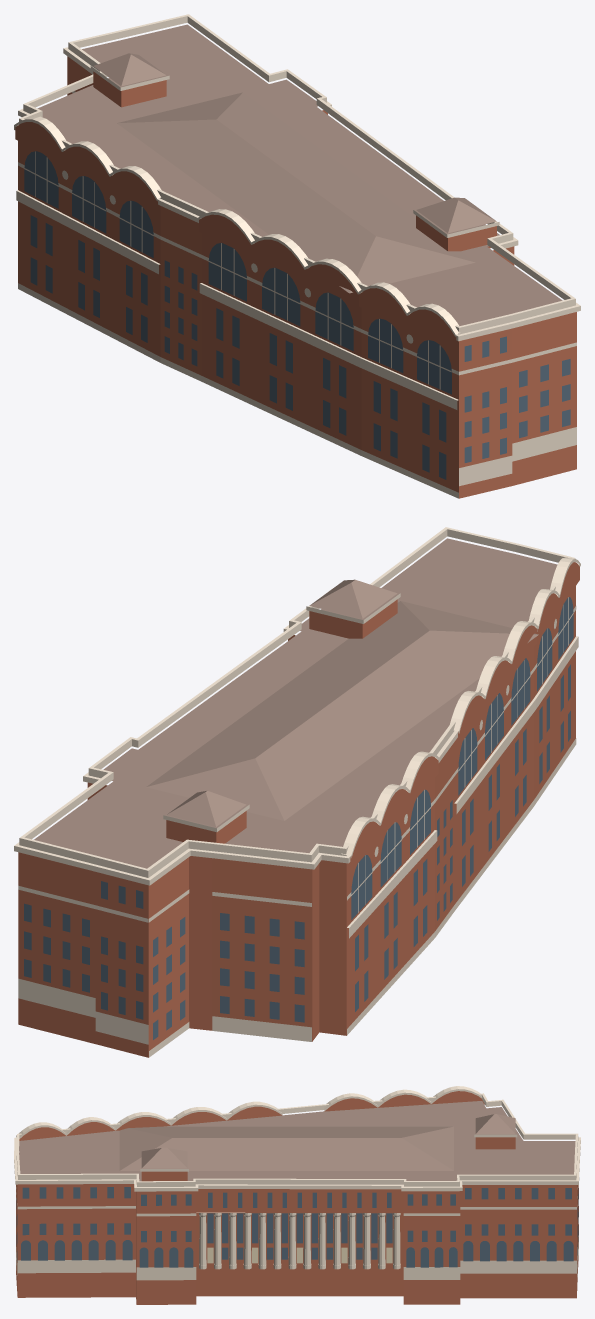
The model's file is van-waterfront-station.glb.
3 renders of one model, top to bottom at view 1: azimuth 30°, elevation 25°; view 2: azimuth 150°, elevation 25°; view 3: azimuth 270°, elevation 25°, orthographic. The views are drawn at different scales.
Parts seen in each view (by area): view 1: Waterfront Station; view 2: Waterfront Station; view 3: Waterfront Station.
Boxes of the visible parts, x1,y1,x2,y2 form: Waterfront Station: (14, 14, 580, 498); Waterfront Station: (14, 527, 580, 1057); Waterfront Station: (14, 1086, 580, 1304).
Size of the model in its own units: 45.34 by 33.2 by 119.
